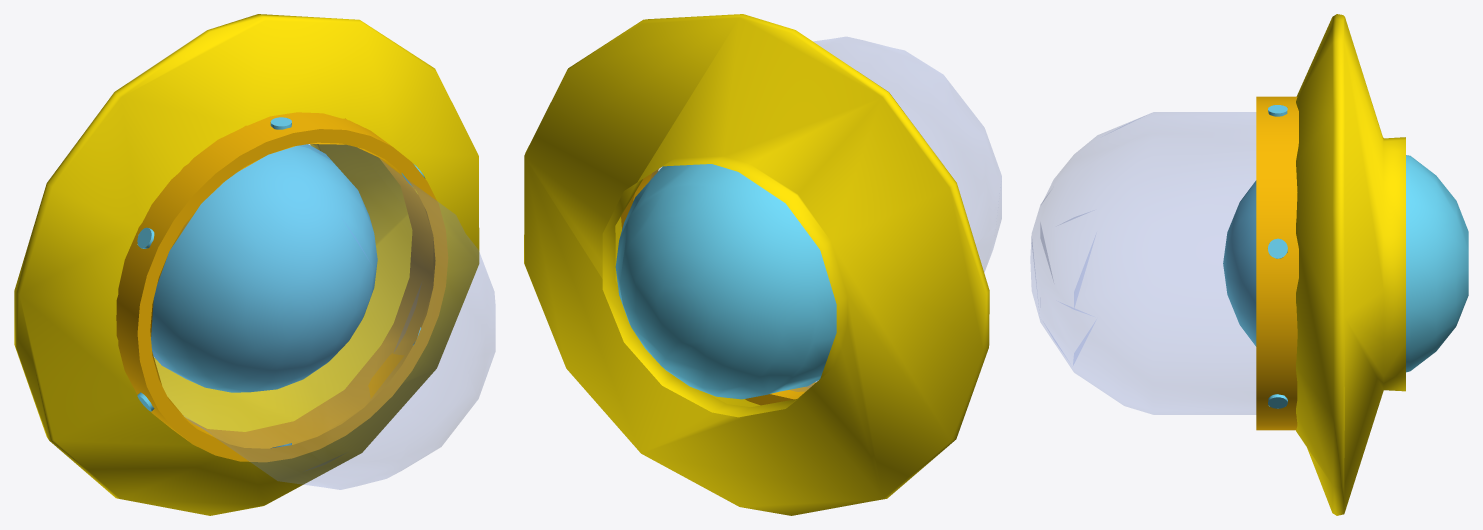
File: UFO.fbx
3 views of the same model, side by side, from view 1: azimuth 30°, elevation 25°; view 2: azimuth 150°, elevation 25°; view 3: azimuth 270°, elevation 25° (orthographic). The views are drawn at different scales.
Parts seen in each view (by area): view 1: Capsule_2; view 2: Capsule_2; view 3: Capsule_2.
Boxes of the visible parts, bbox=[...] form: Capsule_2: bbox=[14, 14, 495, 515]; Capsule_2: bbox=[524, 14, 1001, 515]; Capsule_2: bbox=[1030, 14, 1468, 515].
Size of the model in its own units: 398 by 403 by 351.
